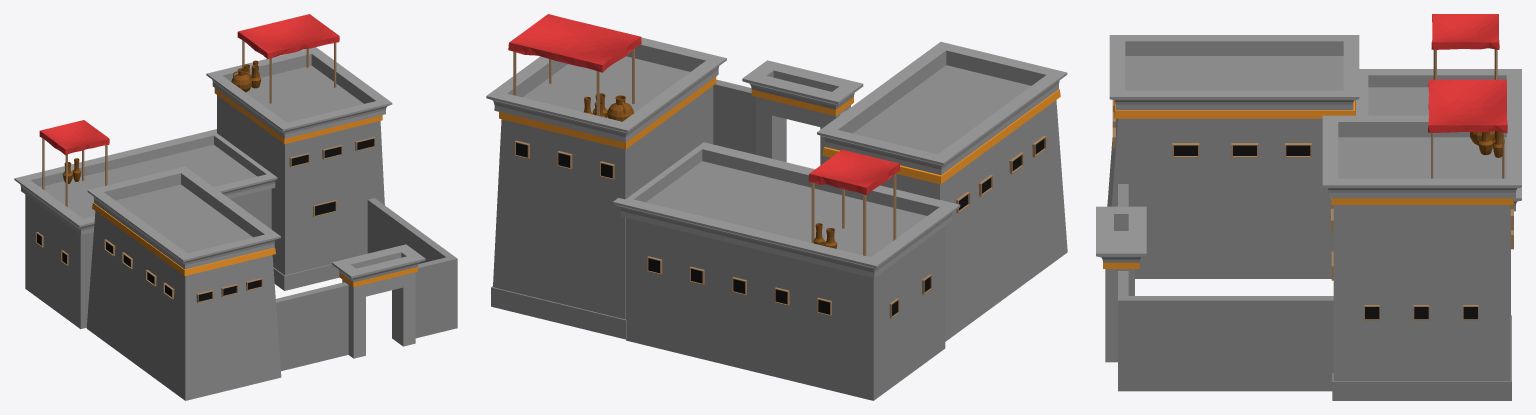
Rendered from SM_house_district_egypt_02.fbx.
The picture shows the model from 3 angles, left to right: view 1: azimuth 30°, elevation 25°; view 2: azimuth 150°, elevation 25°; view 3: azimuth 270°, elevation 25°; orthographic projection. The views are drawn at different scales.
Parts seen in each view (by area): view 1: Object183; view 2: Object183; view 3: Object183.
Part boxes in pixels (x1,y1,x2,y2): Object183: (14, 14, 457, 400); Object183: (486, 14, 1067, 400); Object183: (1096, 14, 1521, 400).
Bounding box in the file's own units: 508 × 476 × 333.
